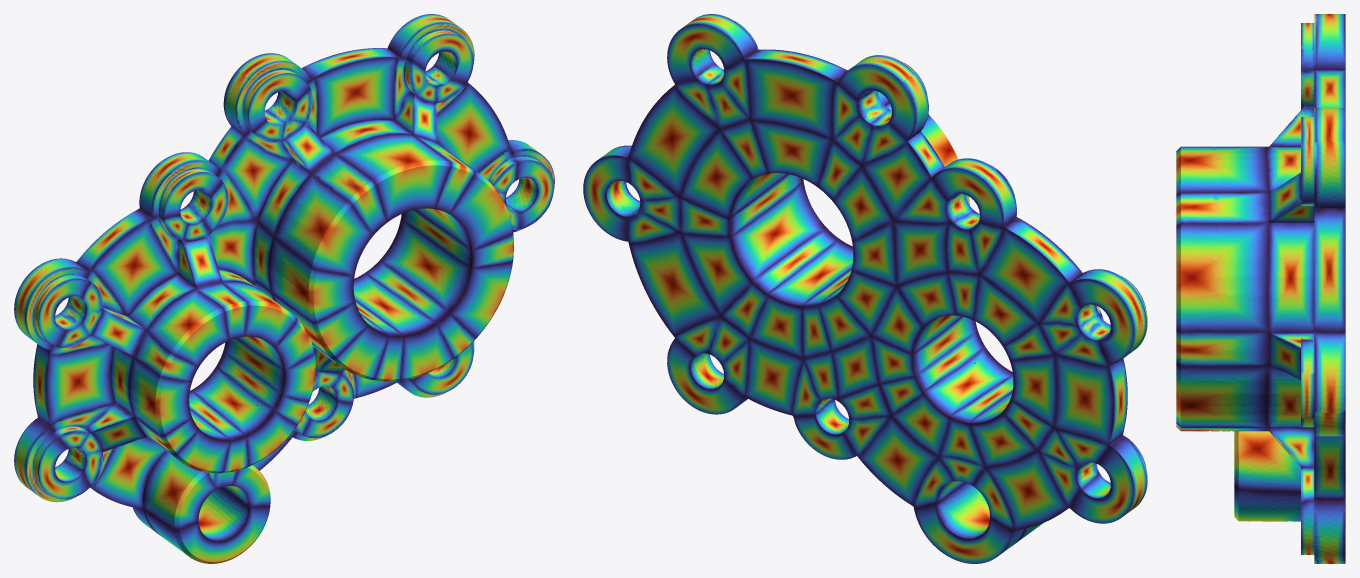
The model's file is gen0.glb.
3 views of the same model, side by side, from view 1: azimuth 30°, elevation 25°; view 2: azimuth 150°, elevation 25°; view 3: azimuth 270°, elevation 25° (orthographic). The views are drawn at different scales.
Parts seen in each view (by area): view 1: Node; view 2: Node; view 3: Node.
Part boxes in pixels (x1=…): Node: x1=14, y1=14, x2=554, y2=563; Node: x1=583, y1=14, x2=1147, y2=563; Node: x1=1176, y1=14, x2=1345, y2=563.
Size of the model in its own units: 164 by 135 by 38.03.
Materials: 1 (1 with a texture image).
